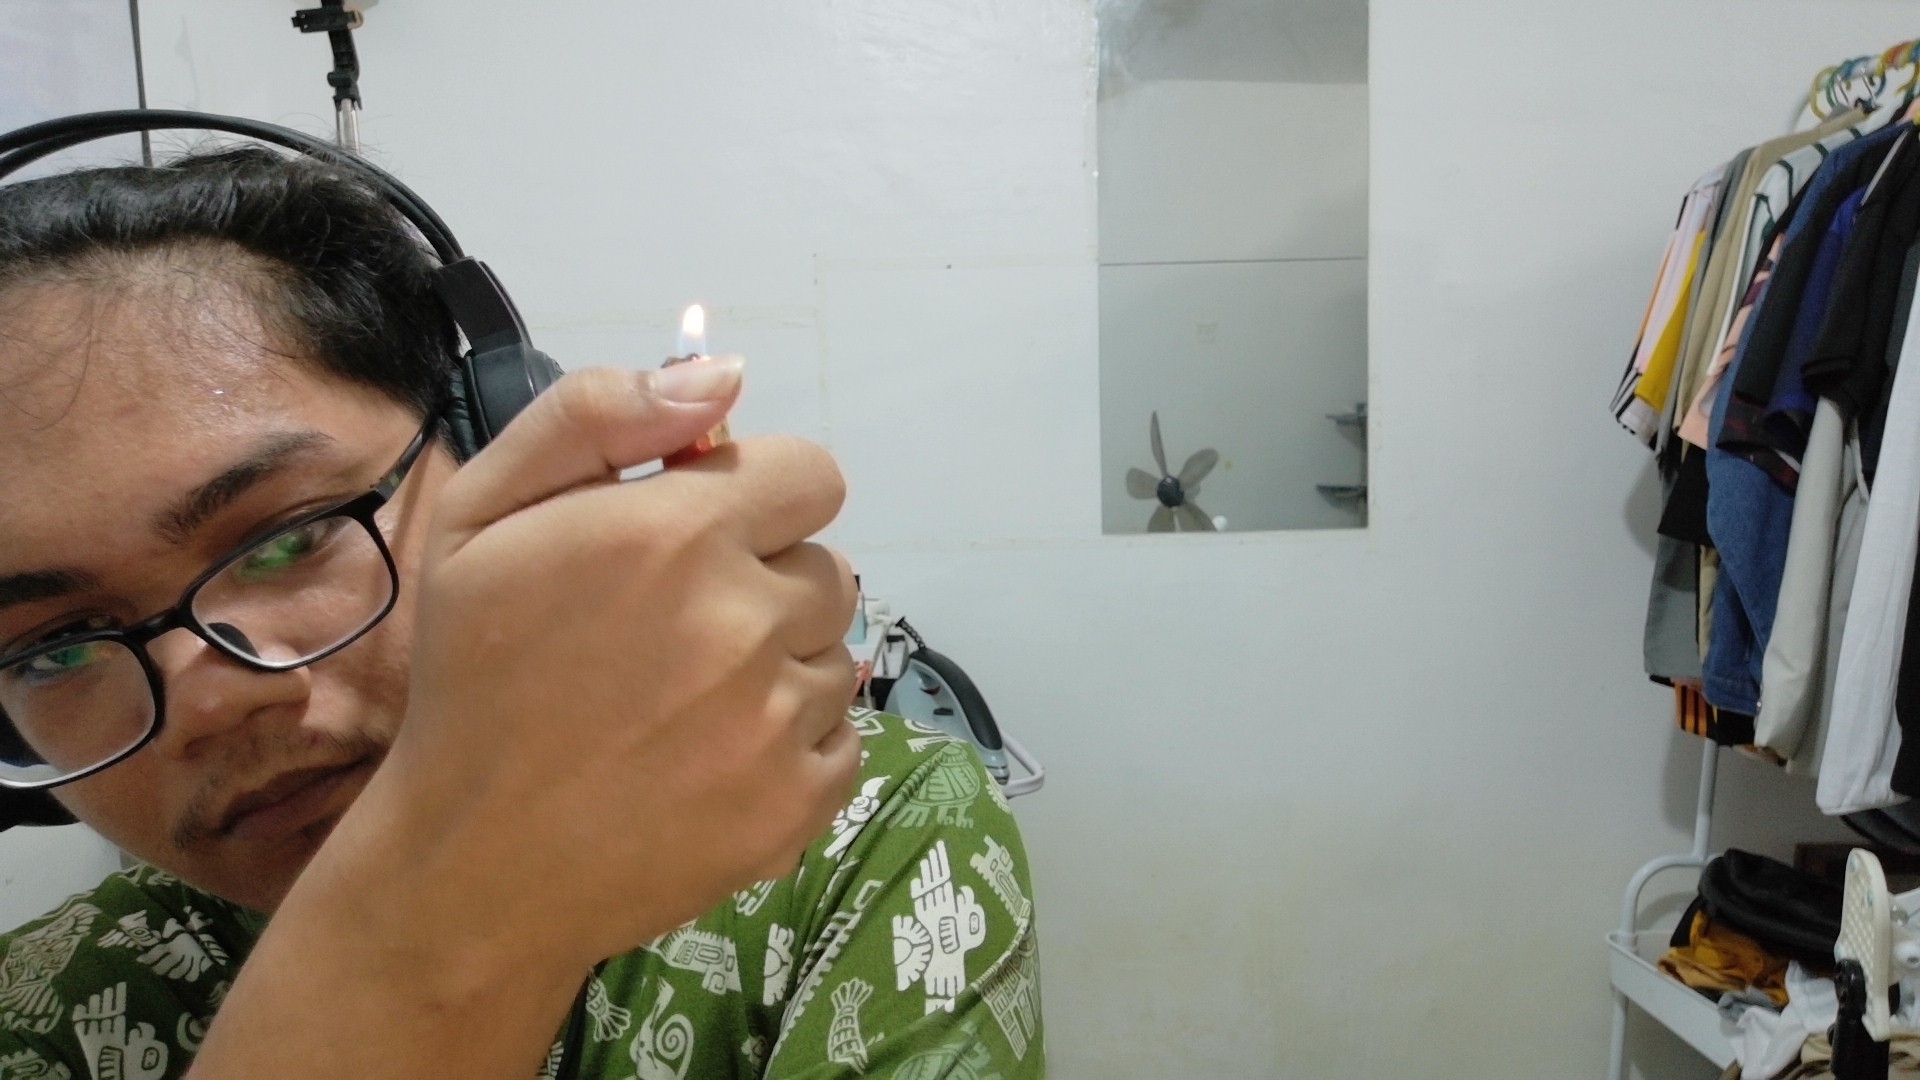fire: (626, 243, 759, 410)
